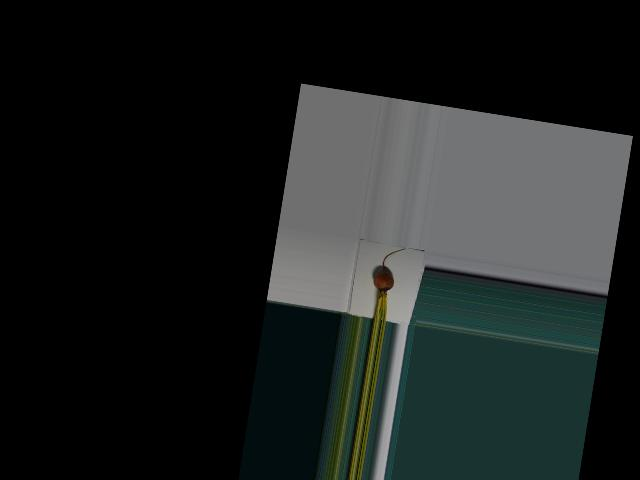beet: (367, 244, 405, 322)
